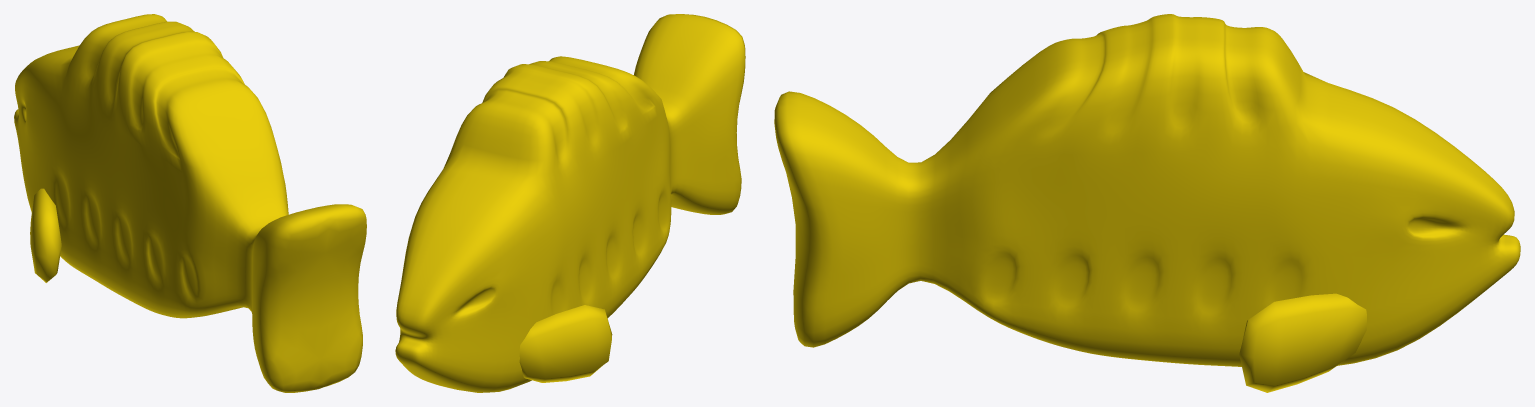
Rendered from saribalik.fbx.
3 views of the same model, side by side, from view 1: azimuth 30°, elevation 25°; view 2: azimuth 150°, elevation 25°; view 3: azimuth 270°, elevation 25° (orthographic). The views are drawn at different scales.
Parts seen in each view (by area): view 1: Cube.004; view 2: Cube.004; view 3: Cube.004.
Part boxes in pixels (bbox=[...]): Cube.004: bbox=[14, 14, 366, 392]; Cube.004: bbox=[395, 14, 745, 392]; Cube.004: bbox=[774, 14, 1520, 392].
Bounding box in the file's own units: 43.19 × 55.04 × 117.
